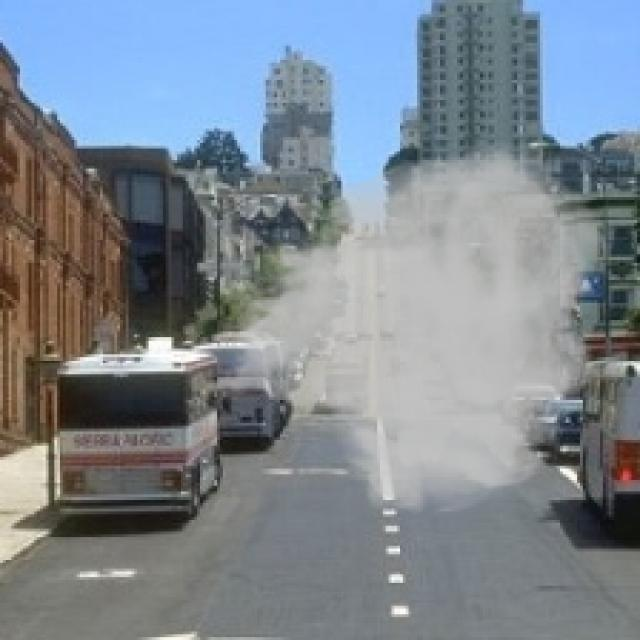Smoke: (212, 140, 614, 517)
